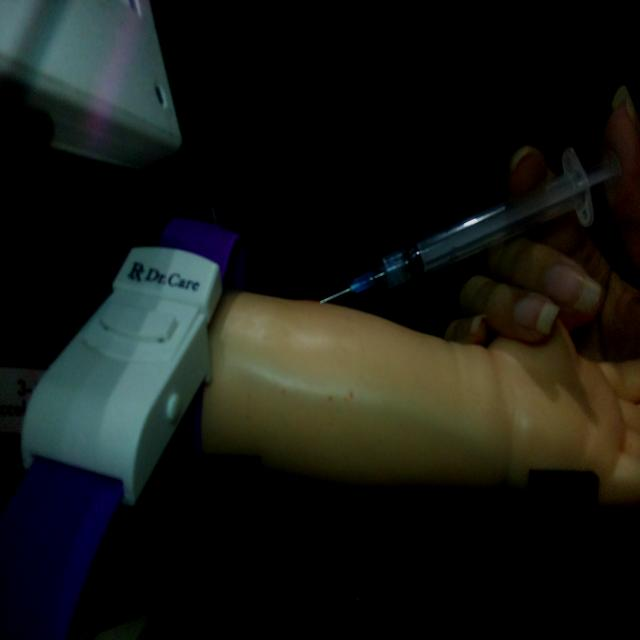15 degrees: (318, 143, 622, 306)
